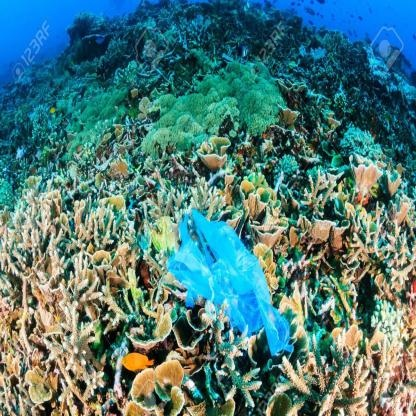pbag: (160, 203, 296, 364)
